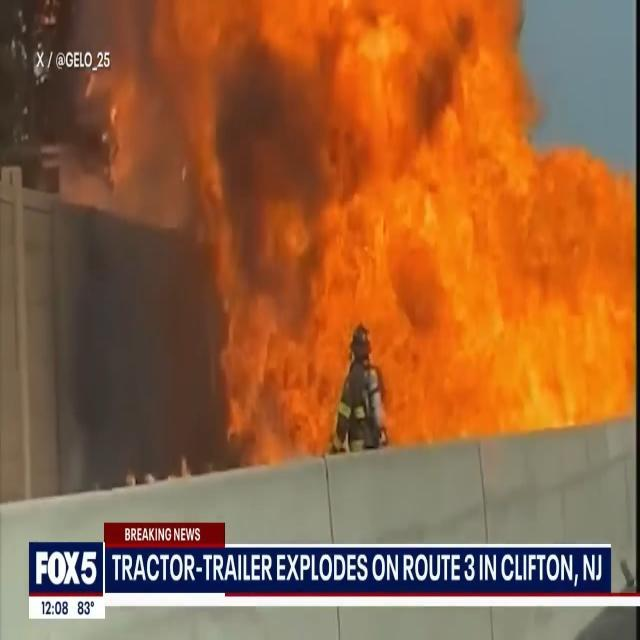fire: (194, 1, 638, 318), (218, 191, 328, 454), (389, 324, 638, 426)
